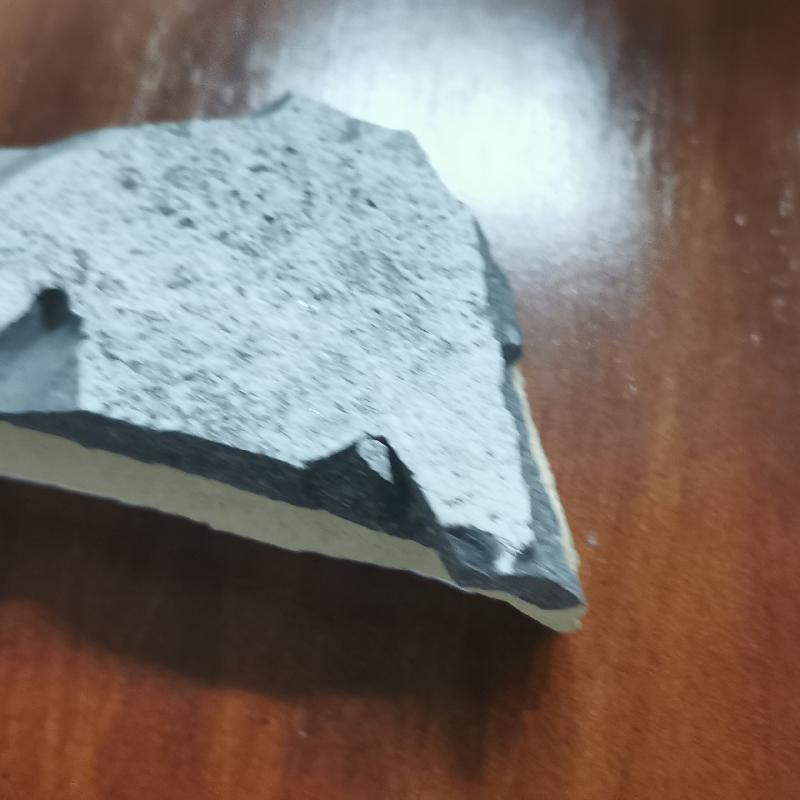tile: (0, 86, 593, 642)
